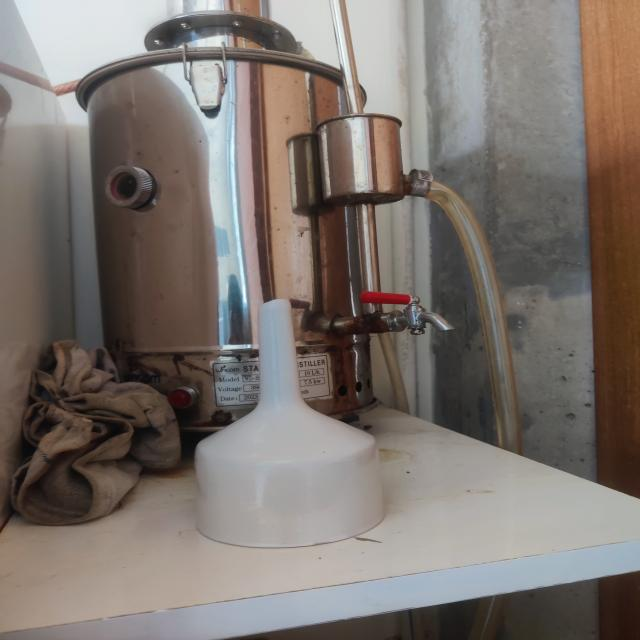Buchner_Funnel: (139, 258, 430, 577)
